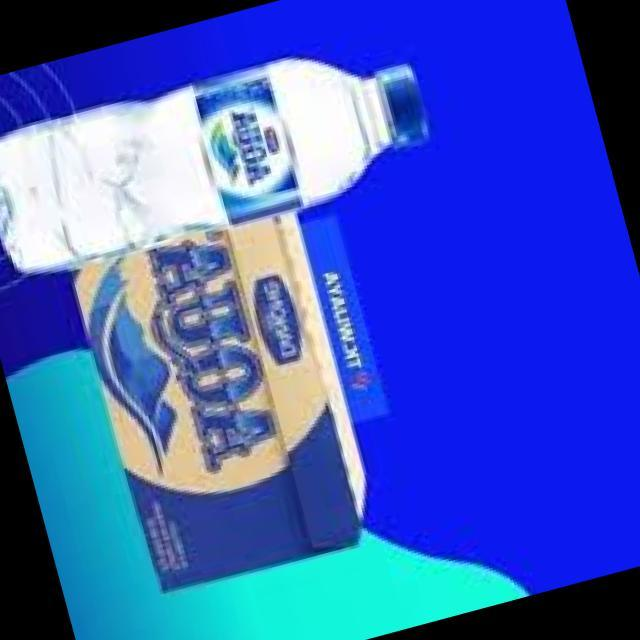good: (0, 0, 477, 319)
